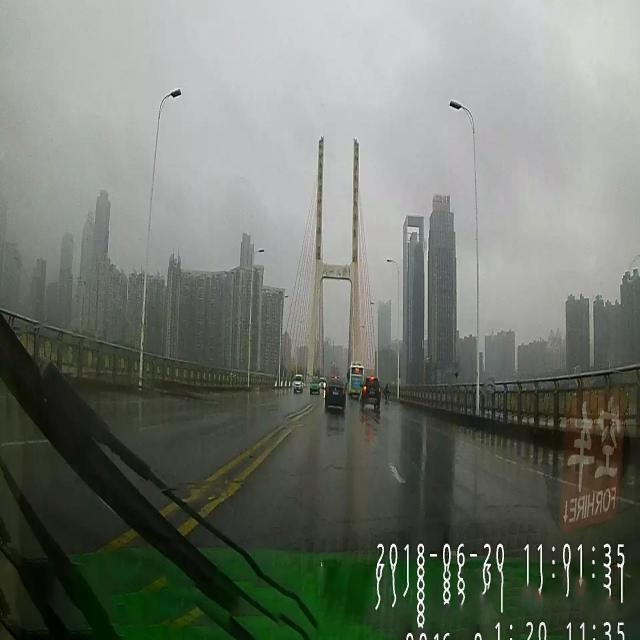car: (324, 378, 347, 416), (360, 378, 380, 417), (308, 372, 320, 396), (292, 372, 304, 394)
